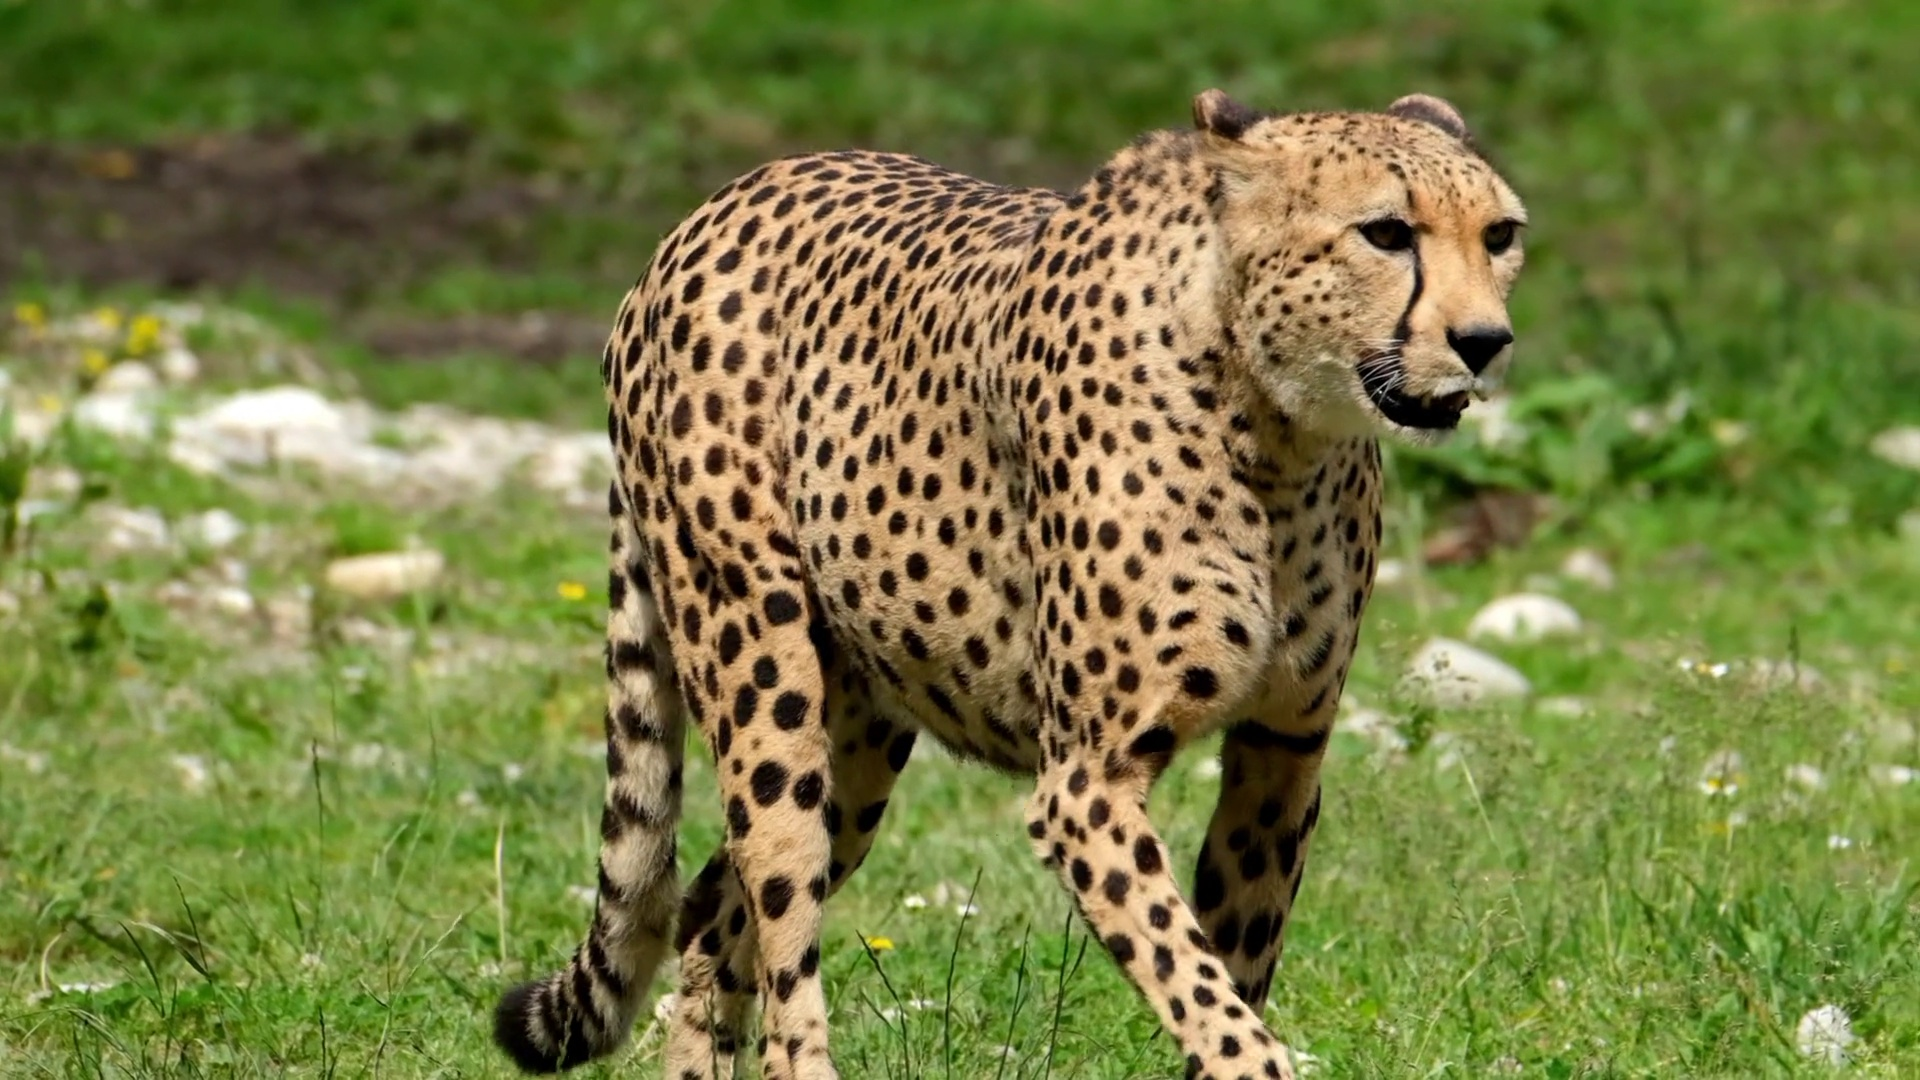Cheetah: (491, 91, 1538, 1080)
